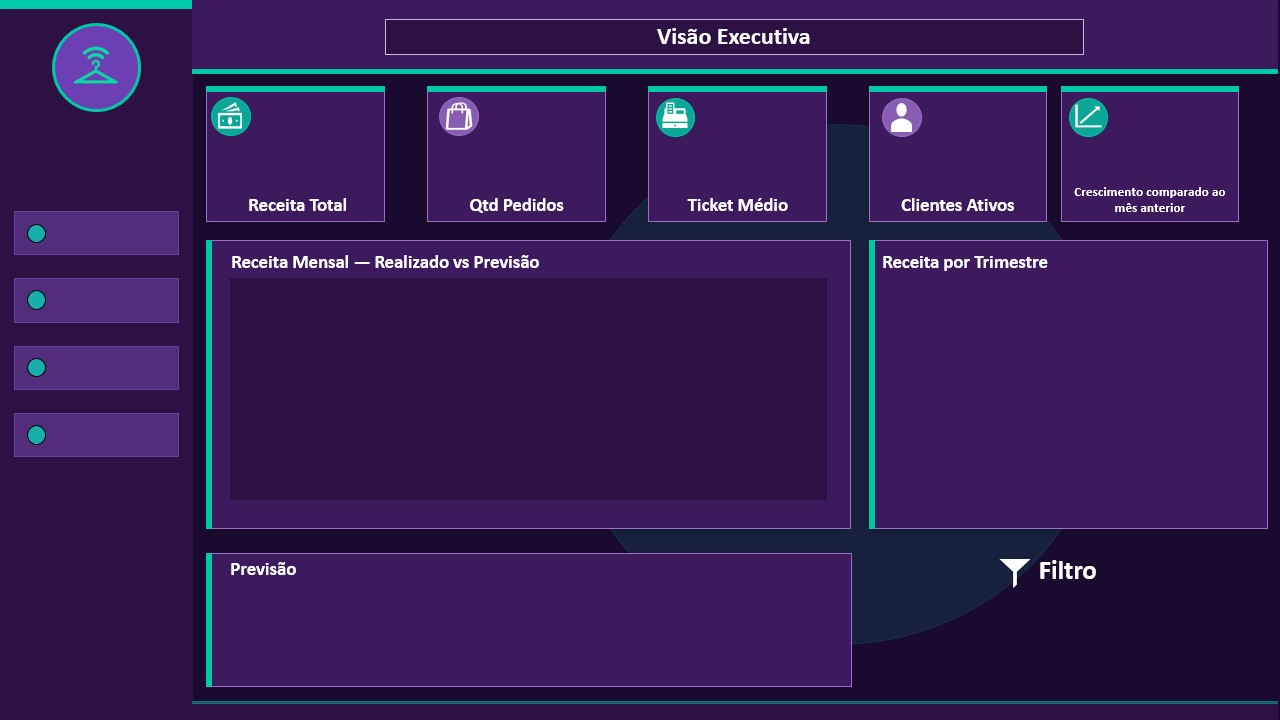

The page's visual inventory and layout, read from the dashboard file:
{"tool":"powerbi","page":{"name":"CEO","canvas":[1280,720],"ordinal":0},"visuals":[{"type":"shape","box":[0,0,1279,48],"z":0},{"type":"textbox","box":[14,7,864,33],"z":0},{"type":"card","title":"Receita Total","fields":{"Values":["Medidas.Receita Total"]},"box":[14,57,220,110],"z":0},{"type":"card","title":"Qtd Pedidos","fields":{"Values":["Medidas.Qtd Pedidos"]},"box":[249,57,220,110],"z":0},{"type":"card","title":"Ticket Médio","fields":{"Values":["Medidas.Ticket Medio"]},"box":[484,57,220,110],"z":0},{"type":"card","title":"Clientes Ativos","fields":{"Values":["Medidas.Clientes Ativos"]},"box":[720,57,220,110],"z":0},{"type":"card","title":"Variação MoM","fields":{"Values":["Medidas.Variacao MoM"]},"box":[955,57,307,110],"z":0},{"type":"lineChart","fields":{"Category":["serie_historico_previsao.ano_mes"],"Y":["serie_historico_previsao.receita_total"],"Series":["serie_historico_previsao.tipo"]},"box":[14,182,825,288],"z":0},{"type":"slicer","title":"ano","fields":{"Values":["fato_vendas.ano"]},"box":[864,182,393,67],"z":0},{"type":"tableEx","fields":{"Values":["previsao_proximos_meses.mes","previsao_proximos_meses.receita_prevista","previsao_proximos_meses.receita_min","previsao_proximos_meses.receita_max","previsao_proximos_meses.pedidos_previstos"]},"box":[864,264,393,465],"z":0},{"type":"clusteredColumnChart","fields":{"Category":["fato_vendas.trimestre"],"Y":["Medidas.Receita Total"]},"box":[14,484,528,244],"z":0},{"type":"clusteredBarChart","fields":{"Category":["fato_vendas.canal"],"Y":["Medidas.Receita Total"]},"box":[561,484,288,244],"z":0}]}

Visuals, with their boxes in screenshot pixels (x1, y1, x2, y2), scaled from the page's 1280x720 canvas onto the 1280x720 screenshot:
shape: locate(0, 0, 1279, 48)
textbox: locate(14, 7, 878, 40)
"Receita Total" card: locate(14, 57, 234, 167)
"Qtd Pedidos" card: locate(249, 57, 469, 167)
"Ticket Médio" card: locate(484, 57, 704, 167)
"Clientes Ativos" card: locate(720, 57, 940, 167)
"Variação MoM" card: locate(955, 57, 1262, 167)
lineChart - serie_historico_previsao.ano_mes x serie_historico_previsao.receita_total: locate(14, 182, 839, 470)
"ano" slicer: locate(864, 182, 1257, 249)
tableEx - previsao_proximos_meses.mes x previsao_proximos_meses.receita_prevista: locate(864, 264, 1257, 719)
clusteredColumnChart - fato_vendas.trimestre x Medidas.Receita Total: locate(14, 484, 542, 719)
clusteredBarChart - fato_vendas.canal x Medidas.Receita Total: locate(561, 484, 849, 719)
